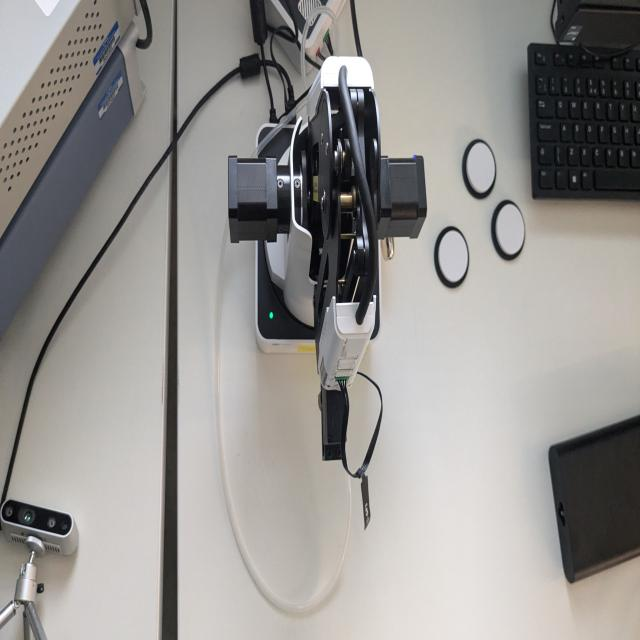Robot-end-effector-HF8z: (317, 389, 352, 467)
